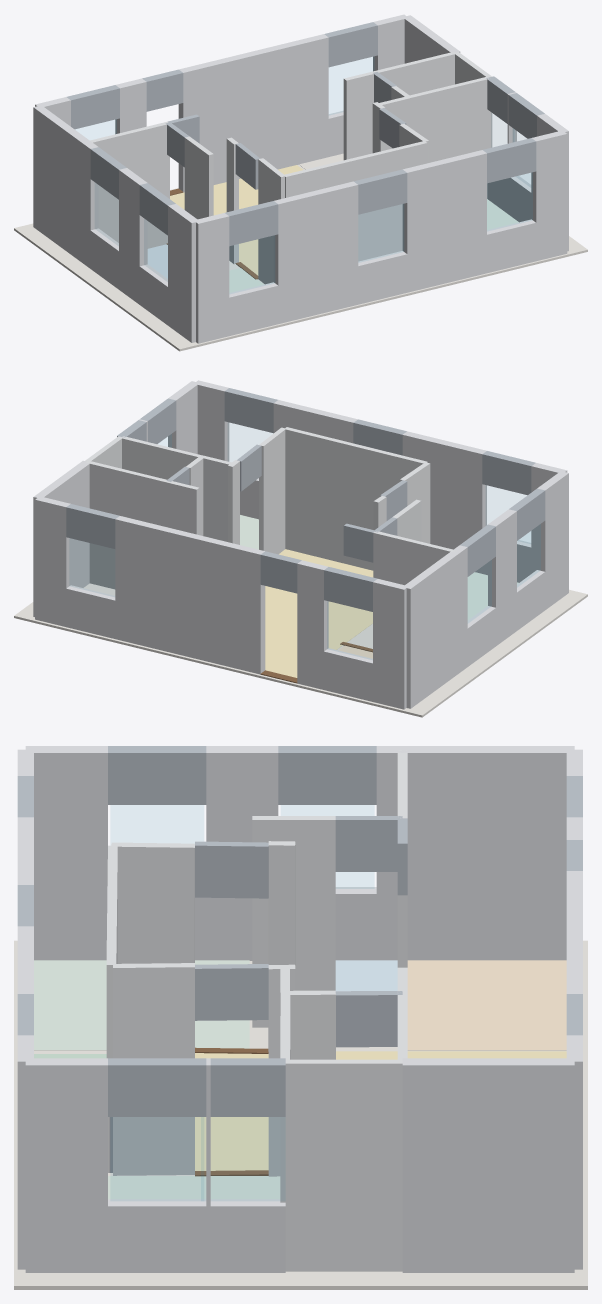
3 views of the same model, one above another, from view 1: azimuth 30°, elevation 25°; view 2: azimuth 150°, elevation 25°; view 3: azimuth 270°, elevation 25° (orthographic). The views are drawn at different scales.
Parts seen in each view (by area): view 1: wall_post_001_02, wall_post_000_01, wall_post_000_02, wall_003_w4, wall_015_w16, wall_012_w13, floor_slab, wall_014_w15, wall_post_009_00, wall_post_000_final, wall_post_000_00, wall_post_002_00 (+41 smaller); view 2: wall_post_001_02, wall_015_w16, wall_003_w4, wall_014_w15, wall_post_000_01, floor_slab, room_finish_007_living_room, wall_post_001_00, wall_post_001_final, wall_post_001_01, wall_post_002_00, wall_post_010_00 (+35 smaller); view 3: wall_006_w7, wall_003_w4, wall_005_w6, wall_post_004_00, wall_post_002_00, floor_slab, room_finish_005_kitchen, wall_post_010_00, wall_post_008_00, wall_post_007_00, wall_post_002_01, room_finish_001_bedroom (+35 smaller).
Part boxes in pixels (box(x1,y1,x2,y2)): wall_post_001_02: box(178, 34, 328, 192); wall_post_000_01: box(273, 181, 358, 323); wall_post_000_02: box(402, 150, 486, 292); wall_003_w4: box(33, 106, 90, 262); wall_015_w16: box(283, 141, 427, 261); wall_012_w13: box(407, 77, 491, 198); floor_slab: box(14, 164, 587, 351); wall_014_w15: box(343, 52, 455, 160); wall_post_009_00: box(90, 122, 169, 248); wall_post_000_final: box(531, 130, 567, 261); wall_post_000_00: box(194, 213, 229, 343); wall_post_002_00: box(168, 204, 199, 342); wall_post_001_02: box(115, 516, 265, 674); wall_015_w16: box(285, 427, 427, 570); wall_003_w4: box(403, 551, 460, 708); wall_014_w15: box(86, 460, 199, 589); wall_post_000_01: box(402, 431, 486, 573); floor_slab: box(14, 589, 587, 717); room_finish_007_living_room: box(265, 549, 373, 677); wall_post_001_00: box(373, 579, 408, 709); wall_post_001_final: box(35, 496, 70, 626); wall_post_001_01: box(297, 560, 328, 689); wall_post_002_00: box(537, 472, 568, 609); wall_post_010_00: box(259, 427, 285, 554); wall_006_w7: box(402, 1058, 574, 1272); wall_003_w4: box(402, 746, 574, 960); wall_005_w6: box(285, 1059, 402, 1271); wall_post_004_00: box(25, 1058, 107, 1272); wall_post_002_00: box(25, 746, 107, 960); floor_slab: box(14, 940, 587, 1289); room_finish_005_kitchen: box(407, 960, 566, 1050); wall_post_010_00: box(112, 963, 194, 1175); wall_post_008_00: box(252, 816, 335, 1027); wall_post_007_00: box(111, 842, 194, 963); wall_post_002_01: box(206, 746, 278, 960); room_finish_001_bedroom: box(34, 960, 249, 1050).
Size of the model in its own units: 9.98 by 2.85 by 7.01.
